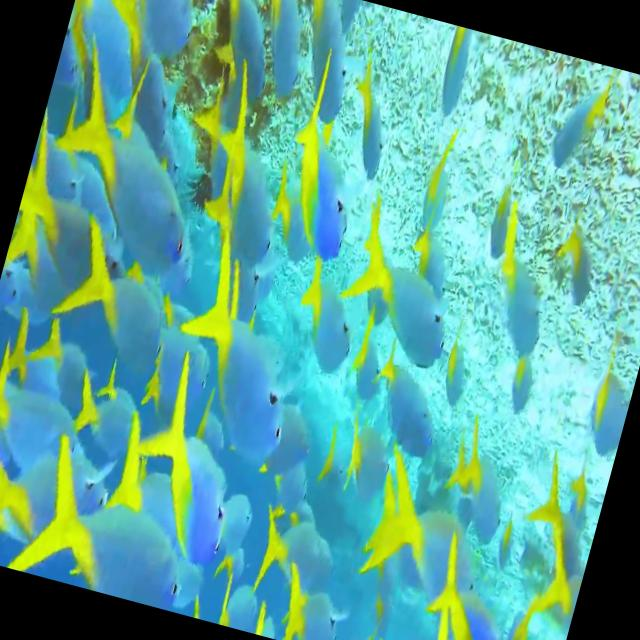fish: (36, 72, 222, 286), (166, 260, 324, 471), (13, 447, 205, 611), (127, 384, 258, 566), (268, 79, 384, 263), (188, 94, 304, 276), (326, 228, 468, 374), (361, 474, 500, 611), (51, 246, 191, 382), (477, 214, 568, 358), (273, 0, 371, 129), (185, 0, 294, 104), (249, 505, 344, 604)
